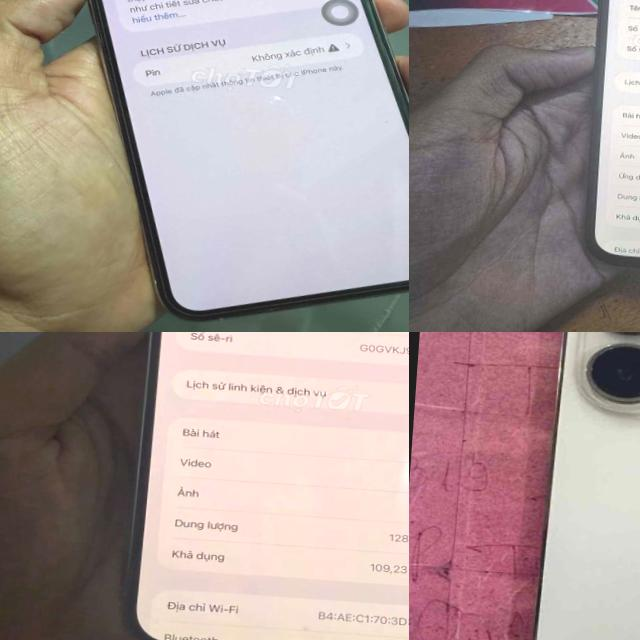physical_damage: (498, 332, 640, 640)
scratch: (371, 107, 409, 134), (212, 310, 242, 330)
